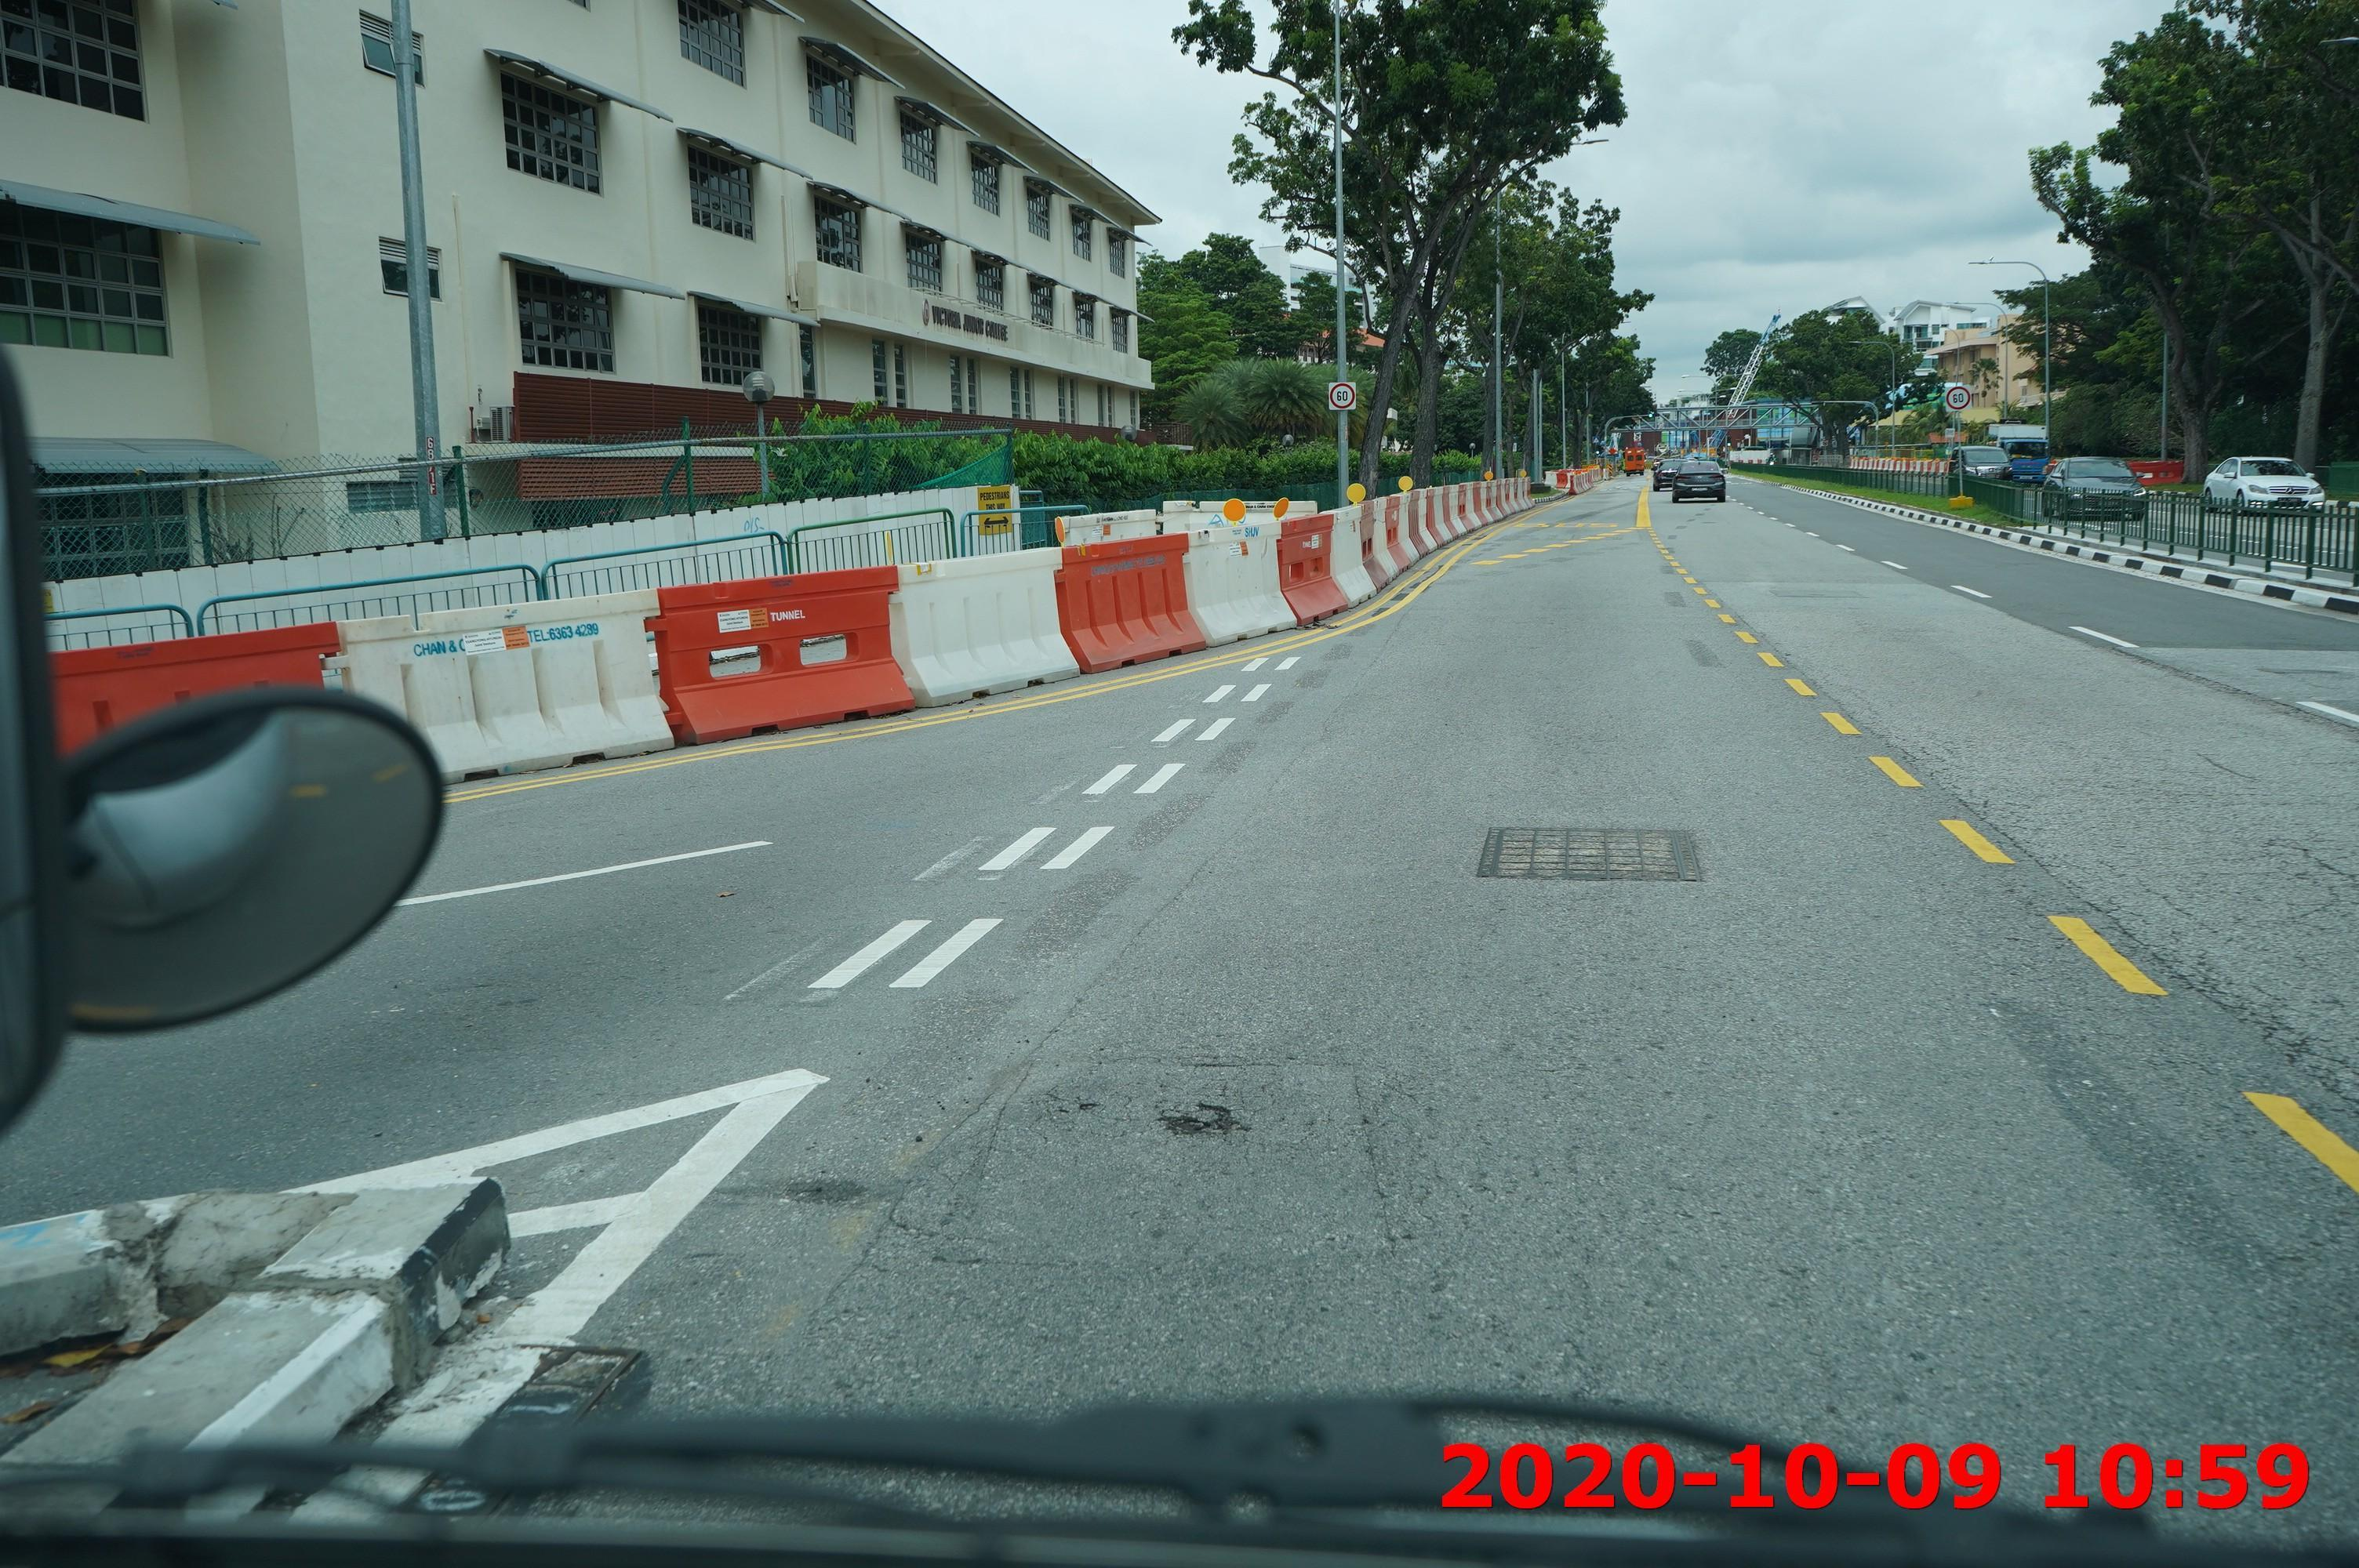peeling off premix: (1148, 1090, 1253, 1148)
